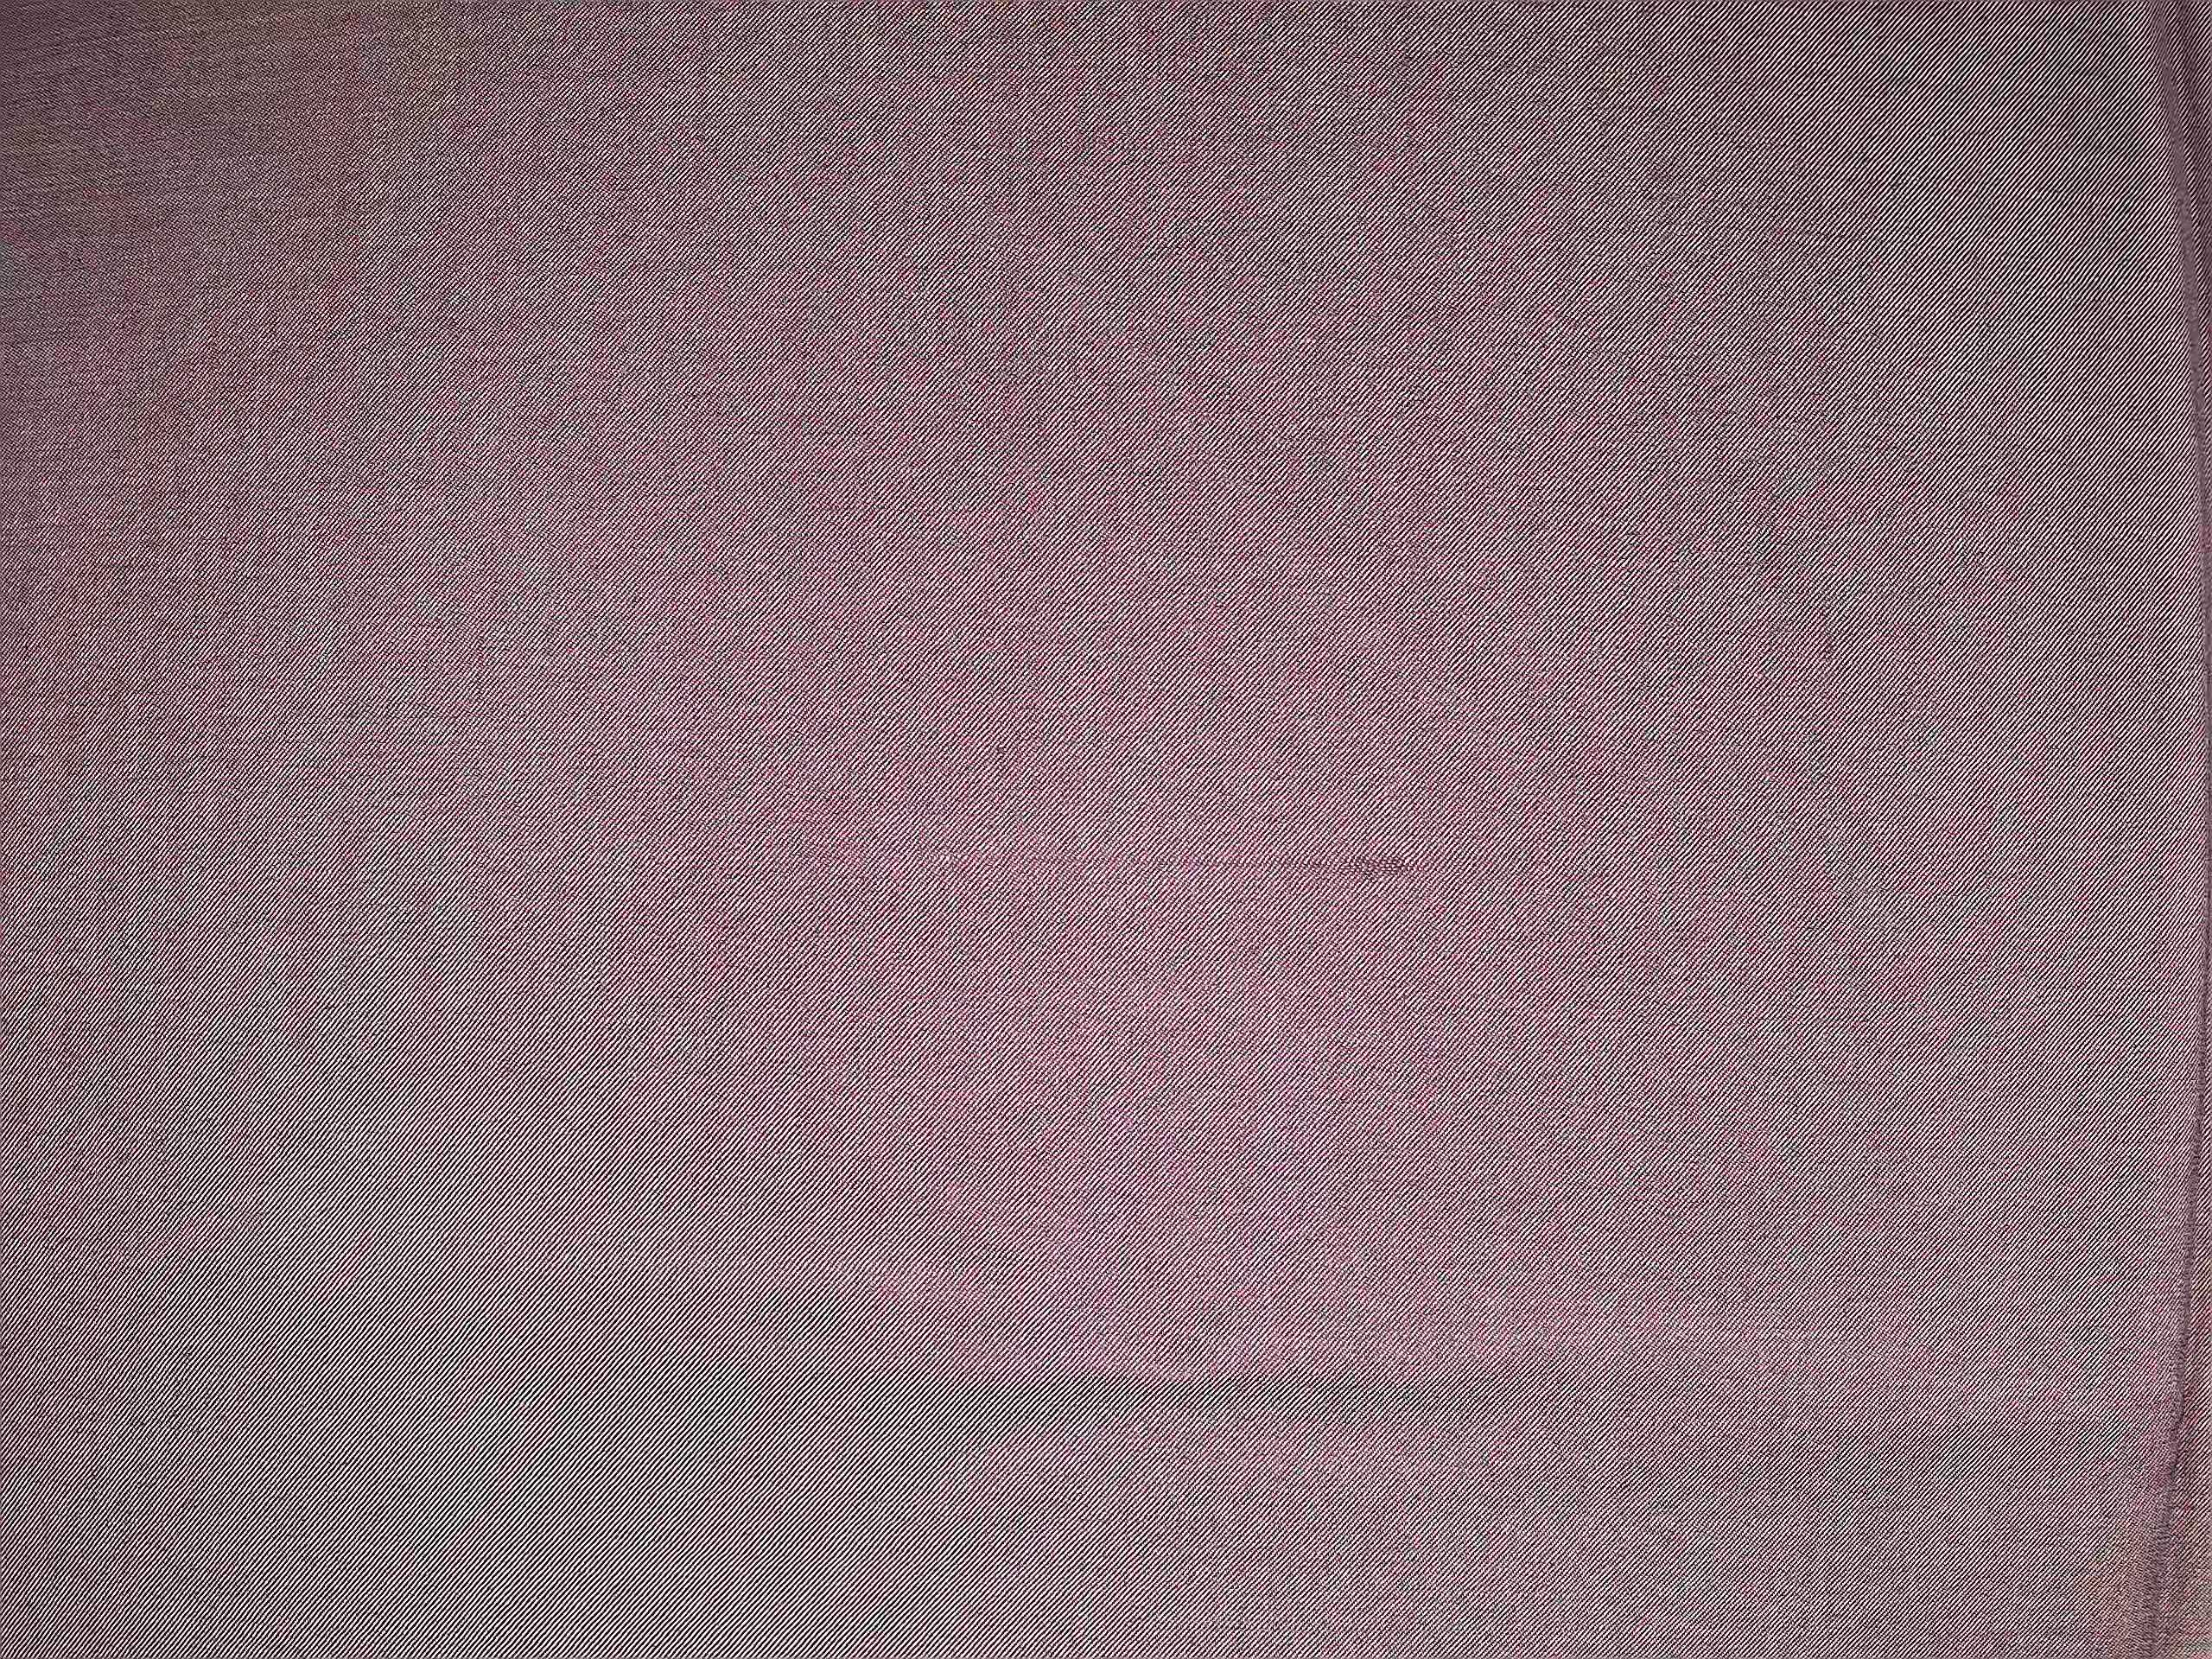thin-spinning: (954, 823, 1453, 908)
